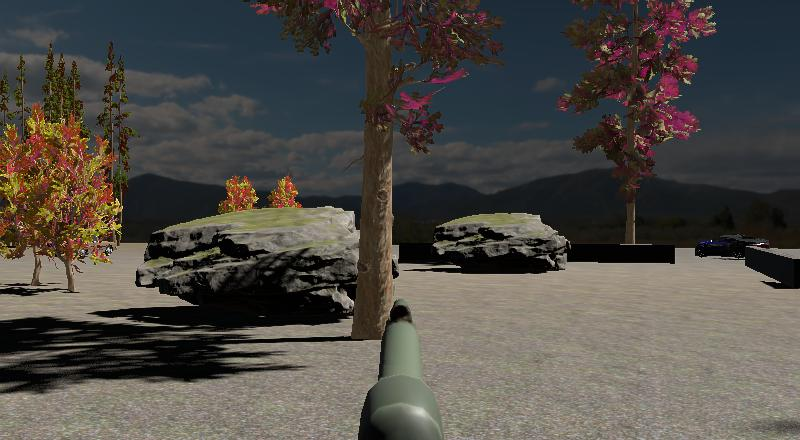car: (742, 238, 800, 293), (693, 236, 748, 259)
